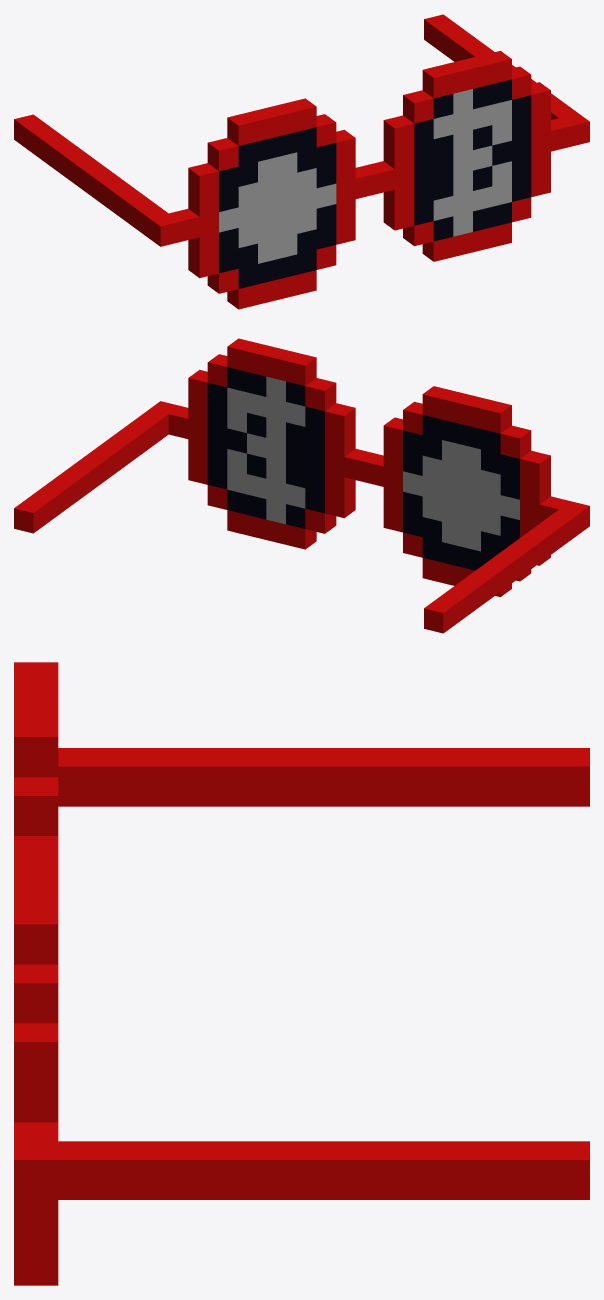
The picture shows the model from 3 angles, top to bottom: view 1: azimuth 30°, elevation 25°; view 2: azimuth 150°, elevation 25°; view 3: azimuth 270°, elevation 25°; orthographic projection. The views are drawn at different scales.
Parts seen in each view (by area): view 1: 49; view 2: 49; view 3: 49.
Boxes of the visible parts, x1=… form: 49: x1=14, y1=14, x2=589, y2=309; 49: x1=14, y1=338, x2=589, y2=633; 49: x1=14, y1=662, x2=589, y2=1285.
Size of the model in its own units: 0.8661 by 0.3543 by 0.5118.
Materials: 1 (1 with a texture image).
